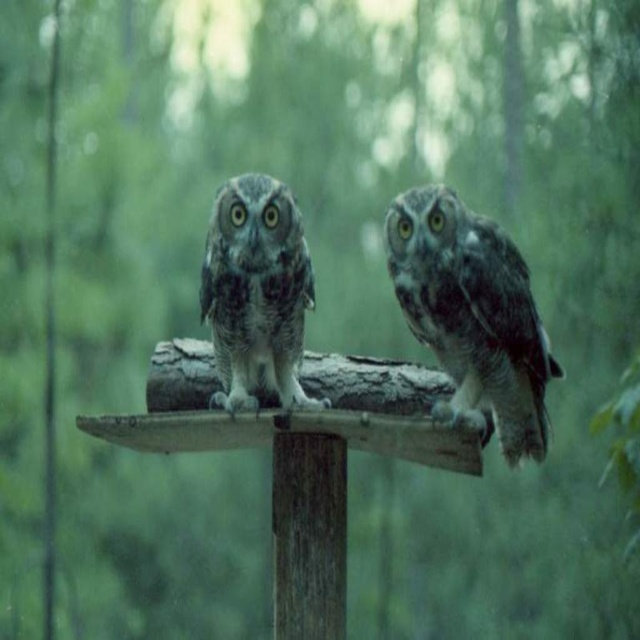Owl: (382, 182, 565, 479), (195, 167, 334, 419)
